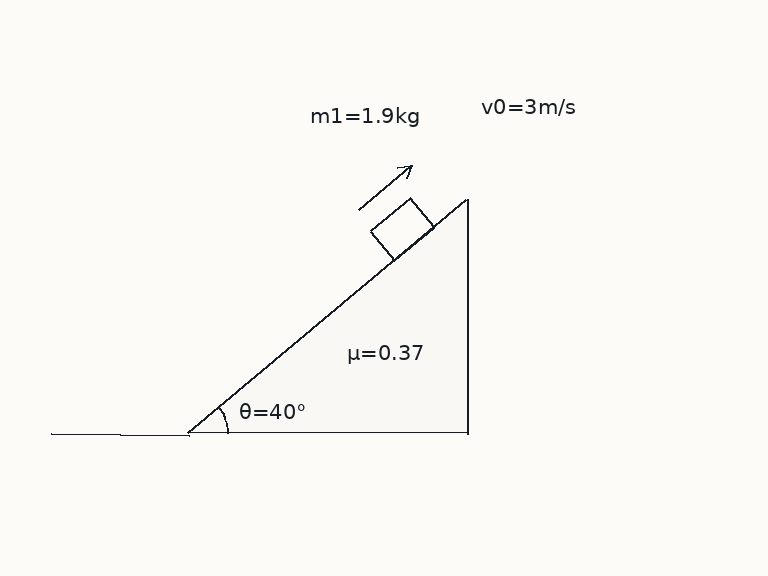block: (368, 196, 435, 262)
ramp: (186, 197, 469, 435)
